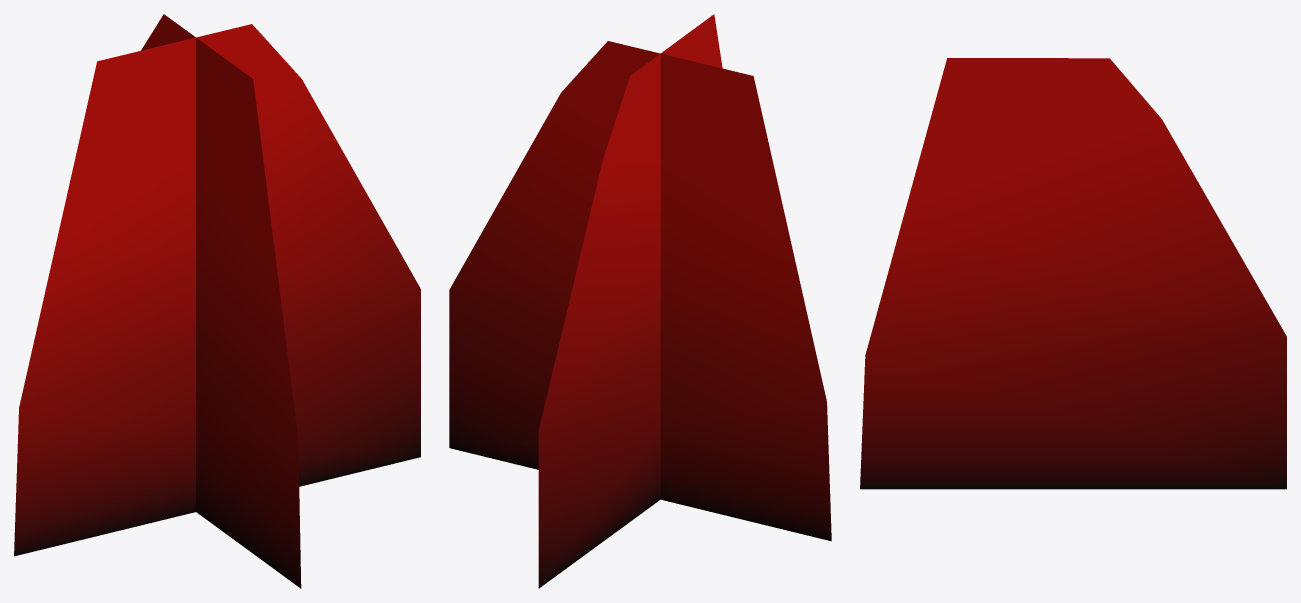
File: bush_1_medium.glb
3 views of the same model, side by side, from view 1: azimuth 30°, elevation 25°; view 2: azimuth 150°, elevation 25°; view 3: azimuth 270°, elevation 25° (orthographic). The views are drawn at different scales.
Visible parts, largest first — view 1: Bush_1_medium; view 2: Bush_1_medium; view 3: Bush_1_medium.
Boxes of the visible parts, x1=… form: Bush_1_medium: x1=14, y1=14, x2=420, y2=588; Bush_1_medium: x1=449, y1=14, x2=831, y2=588; Bush_1_medium: x1=860, y1=58, x2=1286, y2=489.
Bounding box in the file's own units: 0.3573 × 0.3983 × 0.3573.
